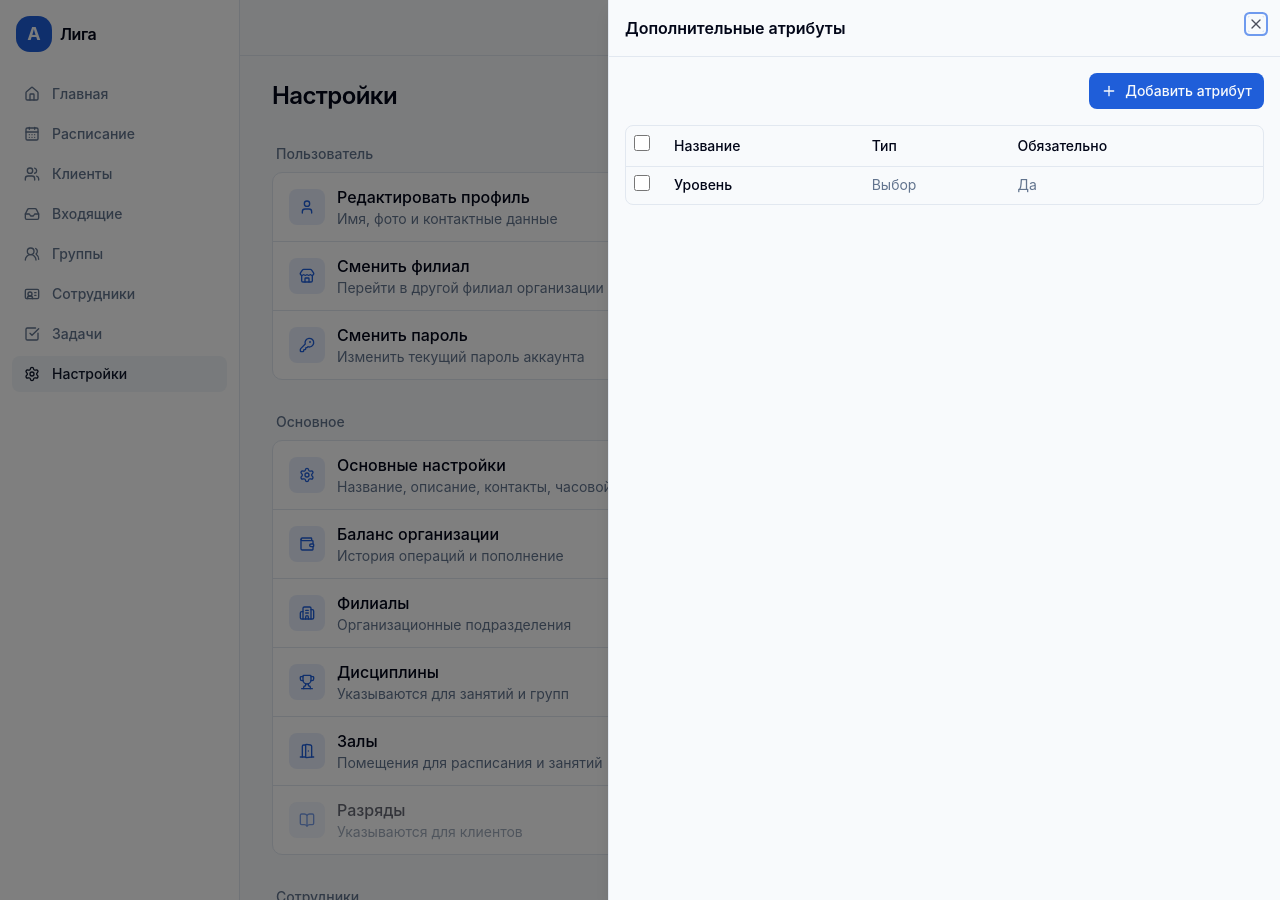
Test: дополнительные атрибуты › удаляет выбранные поля
The image size is (1280, 900).
Click the checkbox named "Выбрать «Уровень»" at (642, 182), box [634, 174, 650, 190]
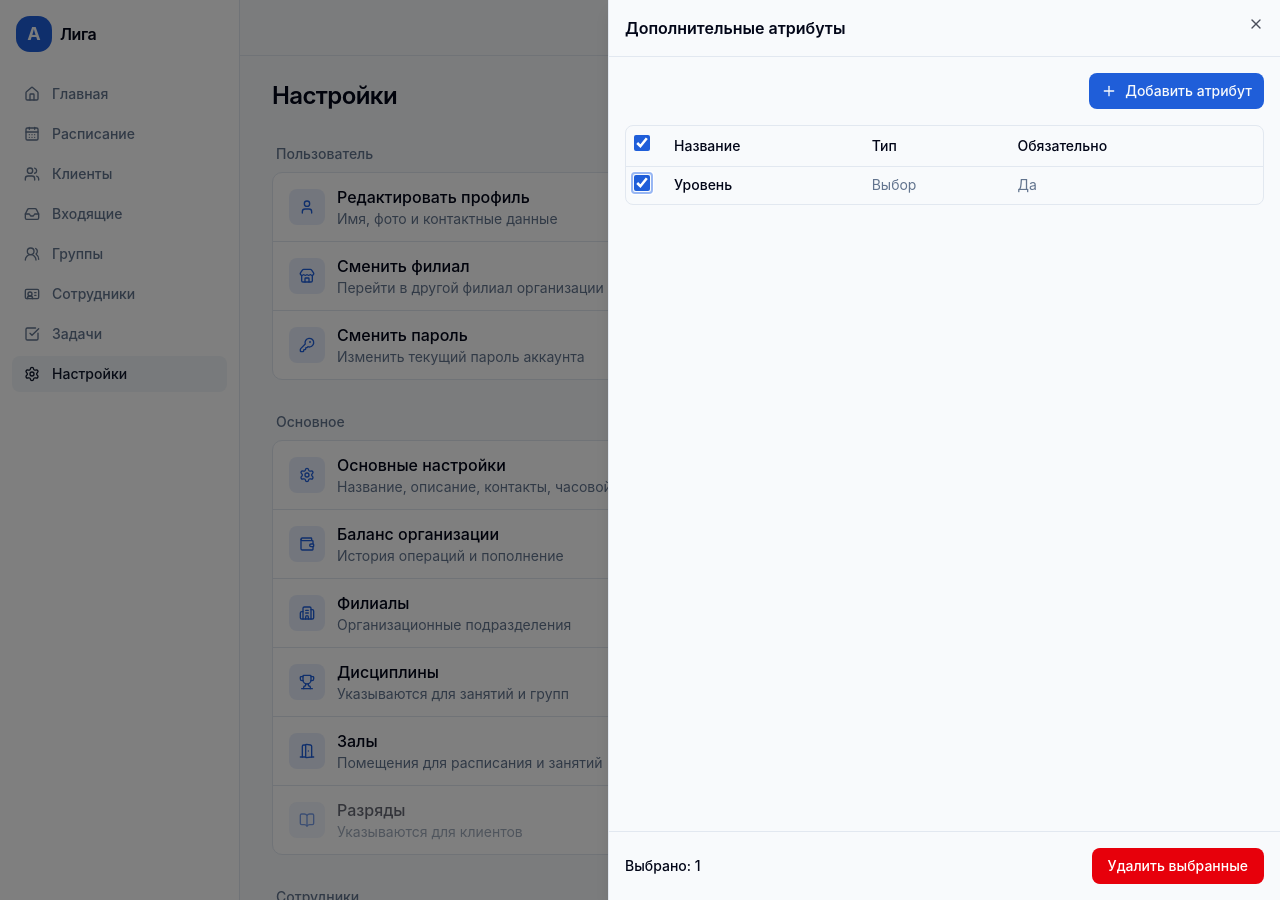
Click the button "Удалить выбранные" at (1178, 866), box [1092, 848, 1264, 884]
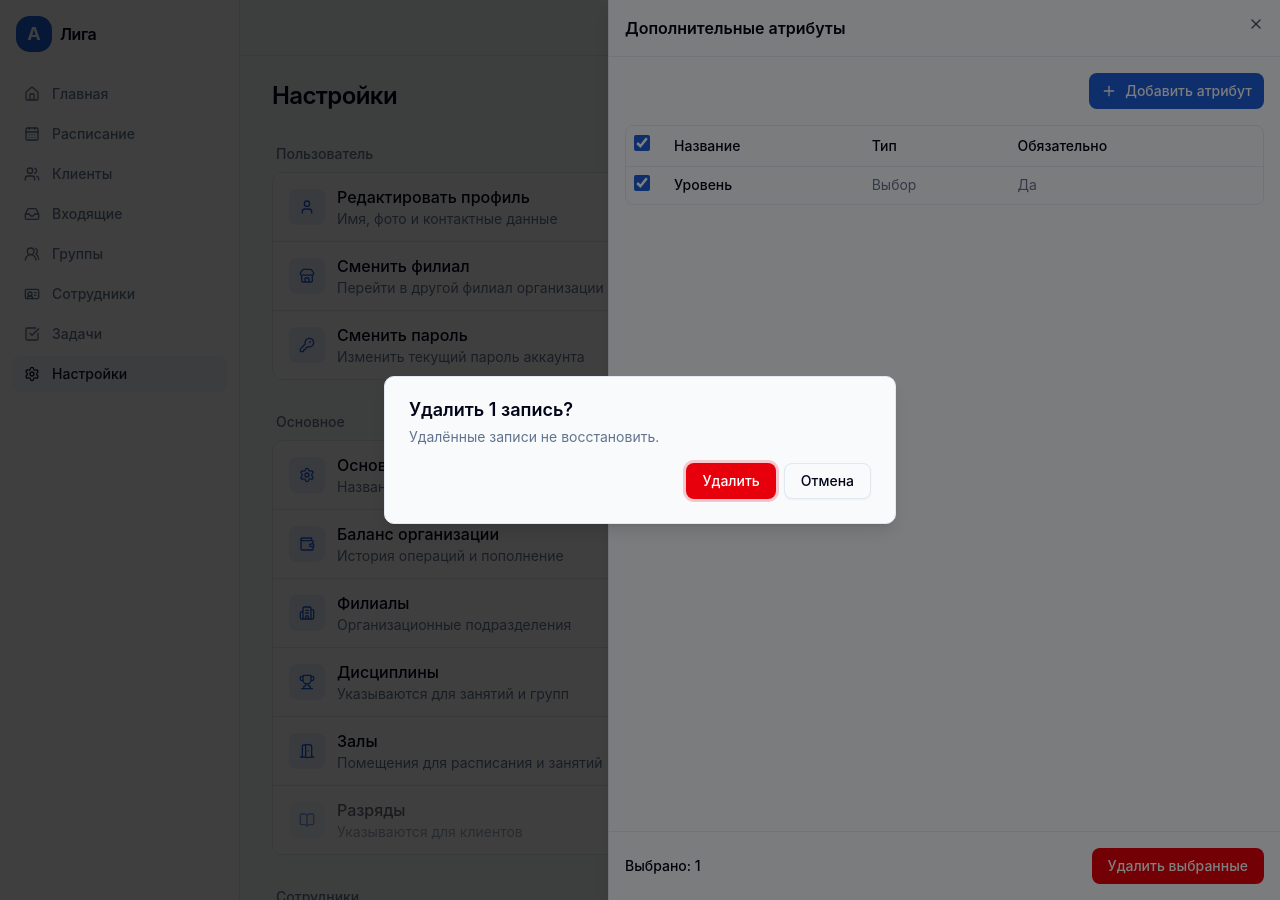
Click the button "Удалить" at (731, 481), box [686, 463, 776, 499]
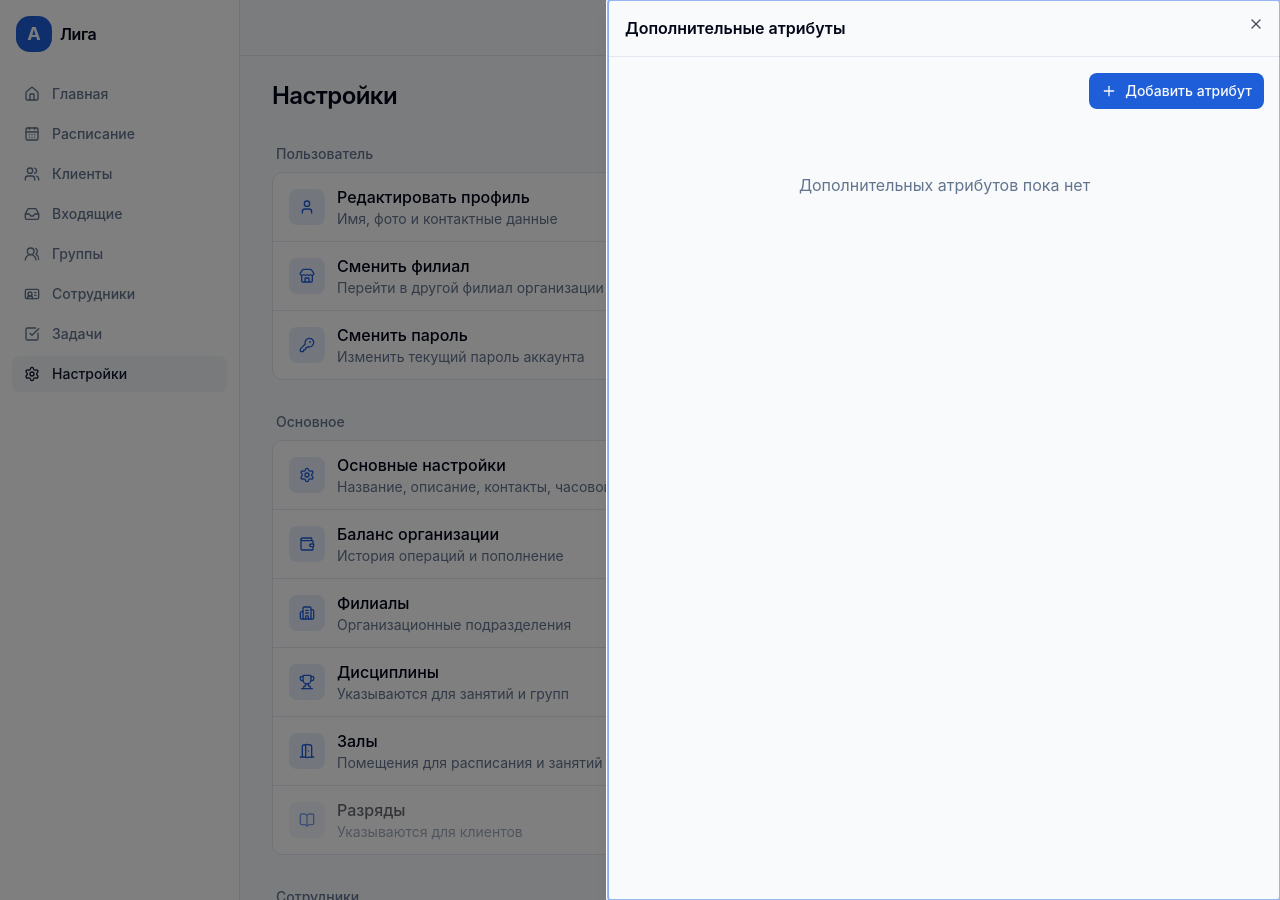
Now the text "Дополнительных атрибутов пока нет" is shown, box [799, 175, 1090, 195]
